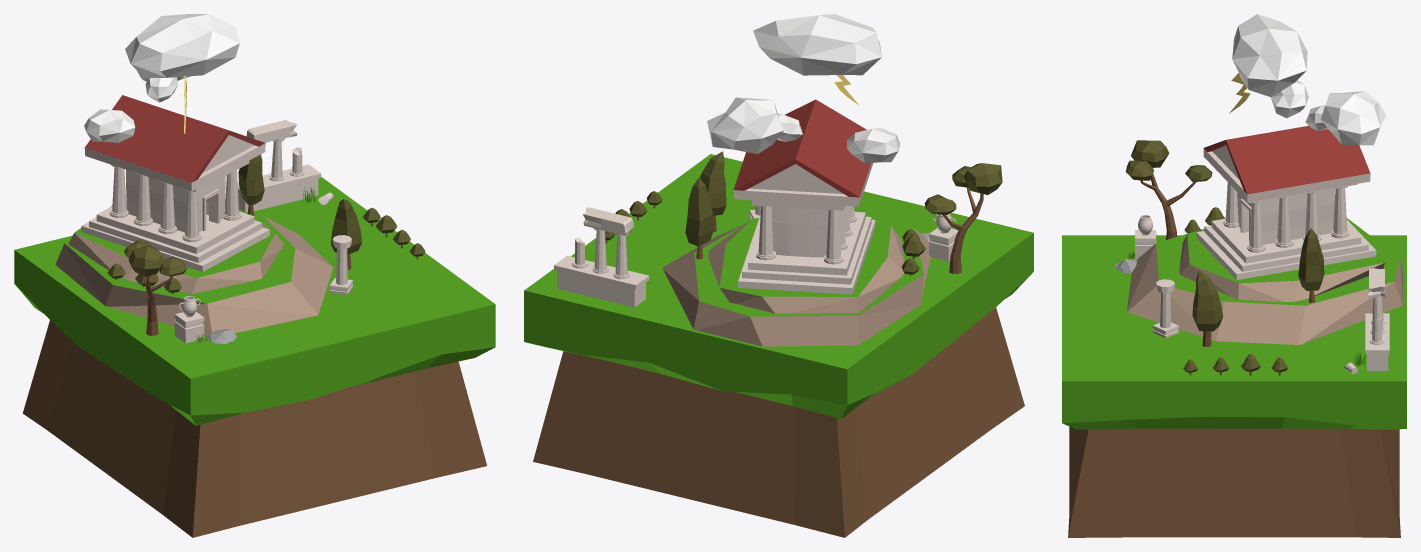
File: Island_6.fbx
3 views of the same model, side by side, from view 1: azimuth 30°, elevation 25°; view 2: azimuth 150°, elevation 25°; view 3: azimuth 270°, elevation 25° (orthographic). The views are drawn at different scales.
Parts seen in each view (by area): view 1: Isl_6_Base, Isl_6_Temple, Isl_6_Hill, Isl_6_Cloud_Lightening, Isl_6_Brocken_Monument, Isl_6_Tree_1, Isl_6_Cloud_1, Isl_6_Vase_1, Isl_6_ree_2, Isl_6_Tree_3, Isl_6_Column_1, Isl_6_Cloud_2; view 2: Isl_6_Base, Isl_6_Temple, Isl_6_Hill, Isl_6_Cloud_Lightening, Isl_6_Brocken_Monument, Isl_6_Cloud_2, Isl_6_Tree_1, Isl_6_Tree_3, Isl_6_Cloud_1, Isl_6_ree_2, Isl_6_Vase_1; view 3: Isl_6_Base, Isl_6_Temple, Isl_6_Hill, Isl_6_Cloud_Lightening, Isl_6_Cloud_2, Isl_6_Tree_1, Isl_6_Brocken_Monument, Isl_6_ree_2, Isl_6_Tree_3, Isl_6_Cloud_1, Isl_6_Column_1, Isl_6_Vase_1.
Part boxes in pixels (<box>): Isl_6_Base: <box>14,177,495,537</box>; Isl_6_Temple: <box>81,95,269,271</box>; Isl_6_Hill: <box>55,198,333,336</box>; Isl_6_Cloud_Lightening: <box>125,14,239,133</box>; Isl_6_Brocken_Monument: <box>237,119,333,212</box>; Isl_6_Tree_1: <box>124,239,186,335</box>; Isl_6_Cloud_1: <box>84,109,135,142</box>; Isl_6_Vase_1: <box>174,296,204,343</box>; Isl_6_ree_2: <box>330,199,362,269</box>; Isl_6_Tree_3: <box>238,154,264,215</box>; Isl_6_Column_1: <box>329,235,353,294</box>; Isl_6_Cloud_2: <box>137,71,189,102</box>; Isl_6_Base: <box>524,154,1033,537</box>; Isl_6_Temple: <box>733,99,875,294</box>; Isl_6_Hill: <box>663,218,930,346</box>; Isl_6_Cloud_Lightening: <box>753,14,881,104</box>; Isl_6_Brocken_Monument: <box>554,207,649,307</box>; Isl_6_Cloud_2: <box>707,97,802,154</box>; Isl_6_Tree_1: <box>924,163,1002,274</box>; Isl_6_Tree_3: <box>685,177,713,259</box>; Isl_6_Cloud_1: <box>846,128,900,163</box>; Isl_6_ree_2: <box>700,151,726,232</box>; Isl_6_Vase_1: <box>929,213,958,261</box>; Isl_6_Base: <box>1062,235,1406,537</box>; Isl_6_Temple: <box>1196,125,1376,279</box>; Isl_6_Hill: <box>1127,218,1403,344</box>; Isl_6_Cloud_Lightening: <box>1229,14,1307,113</box>; Isl_6_Cloud_2: <box>1305,91,1386,145</box>; Isl_6_Tree_1: <box>1126,140,1212,239</box>; Isl_6_Brocken_Monument: <box>1344,268,1389,373</box>; Isl_6_ree_2: <box>1192,270,1223,346</box>; Isl_6_Tree_3: <box>1298,228,1324,302</box>; Isl_6_Cloud_1: <box>1271,80,1308,118</box>; Isl_6_Column_1: <box>1152,279,1178,338</box>; Isl_6_Vase_1: <box>1135,215,1156,259</box>.
Bounding box in the file's own units: 2098 × 2000 × 2640.
